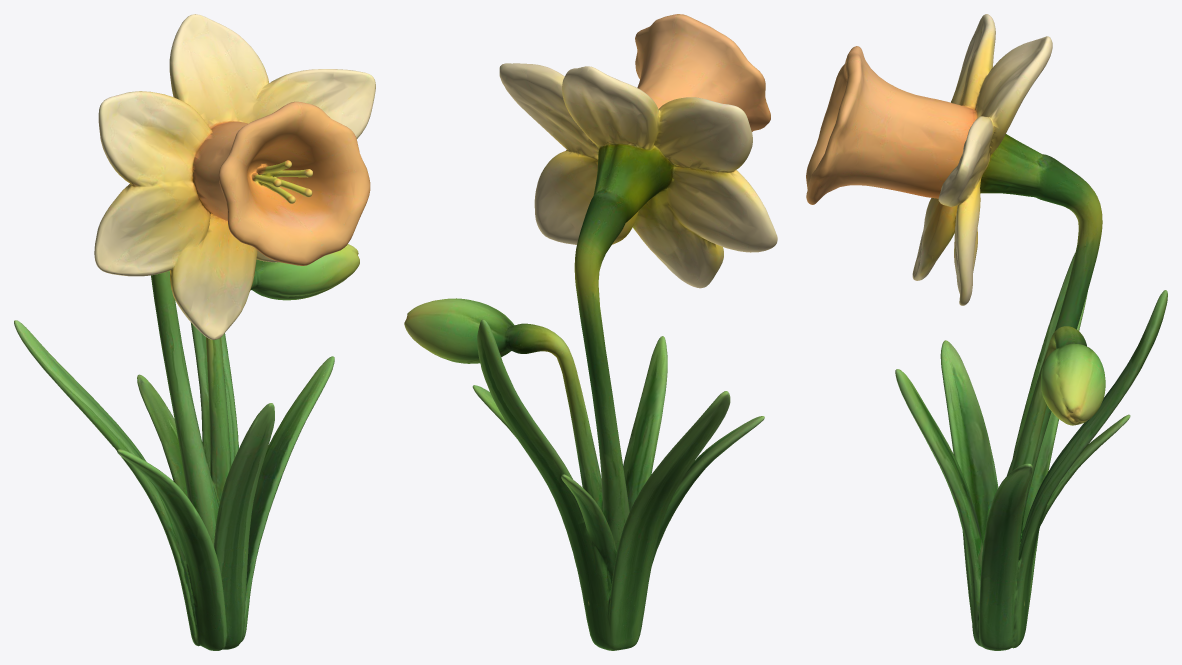
The model's file is daffodil.glb.
3 views of the same model, side by side, from view 1: azimuth 30°, elevation 25°; view 2: azimuth 150°, elevation 25°; view 3: azimuth 270°, elevation 25° (orthographic). The views are drawn at different scales.
Parts seen in each view (by area): view 1: Mesh_0; view 2: Mesh_0; view 3: Mesh_0.
Boxes of the visible parts, left/top/right/bottom form: Mesh_0: left=14, top=14, right=375, bottom=650; Mesh_0: left=404, top=14, right=777, bottom=650; Mesh_0: left=806, top=14, right=1167, bottom=650.
Size of the model in its own units: 1.1 by 1.9 by 1.03.
Materials: 1 (1 with a texture image).
